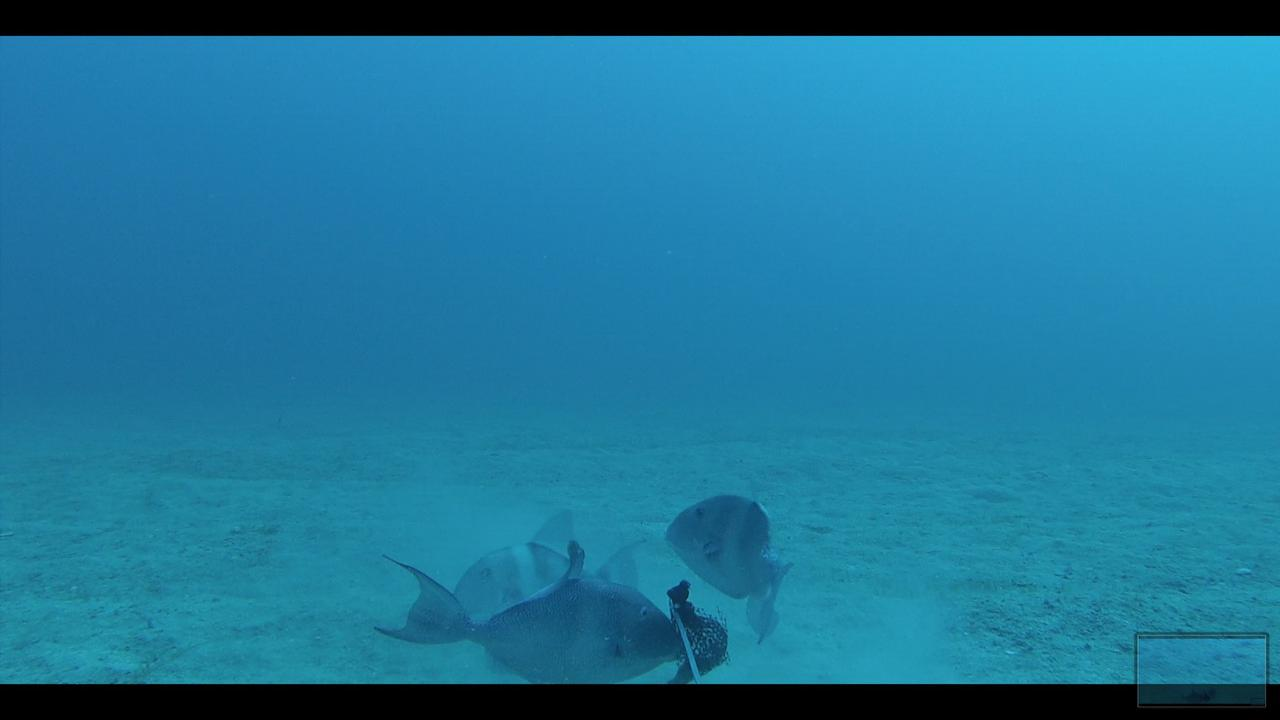balistes: (368, 540, 676, 681), (660, 461, 796, 648), (444, 502, 653, 623)
